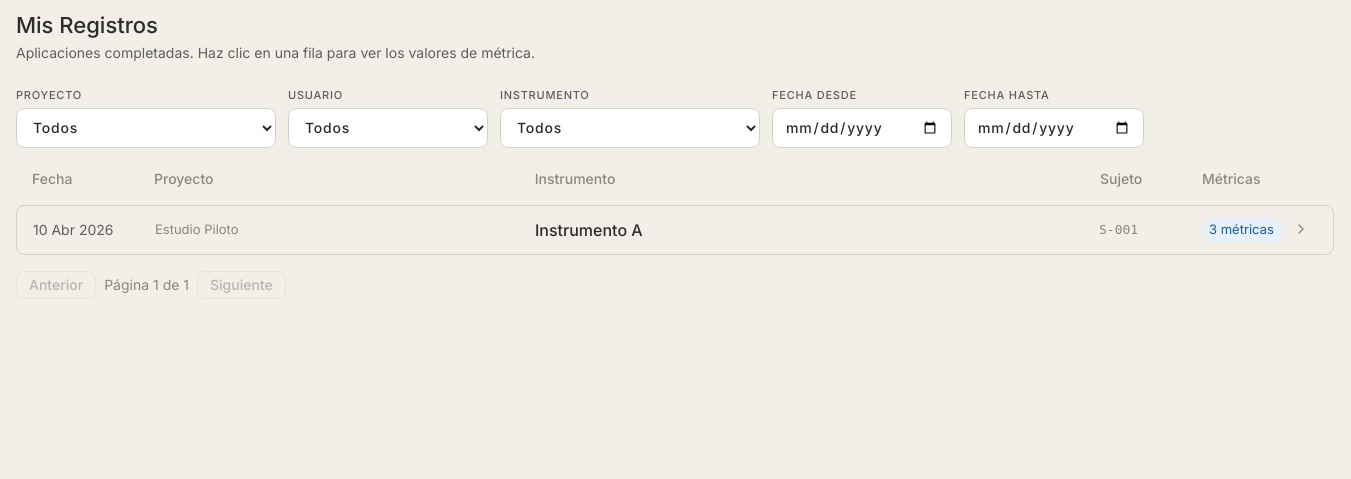
Test: MisRegistrosPage — expansión de fila › expande fila y muestra valores de métrica
Click the button "Instrumento A": (73,230) [17,206,1333,254]
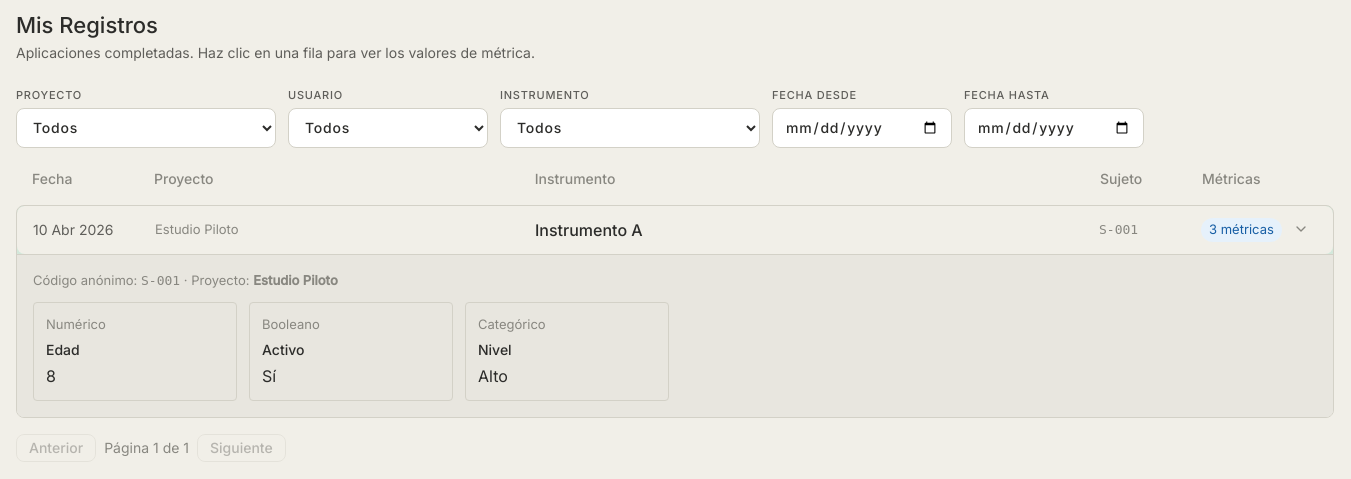
Expected: the text "Edad" is shown, [46,341,80,358]
Expected: the text "8" is shown, [46,366,56,386]
Expected: the text "Sí" is shown, [262,366,276,386]
